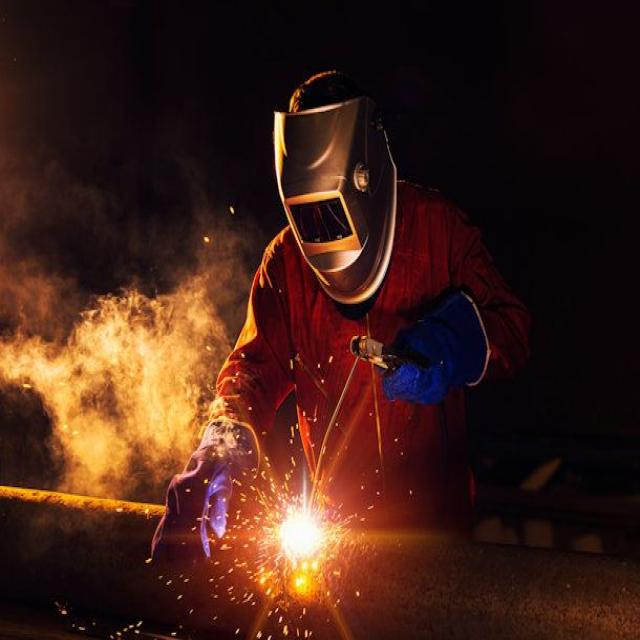with_helmet: (256, 66, 423, 320)
